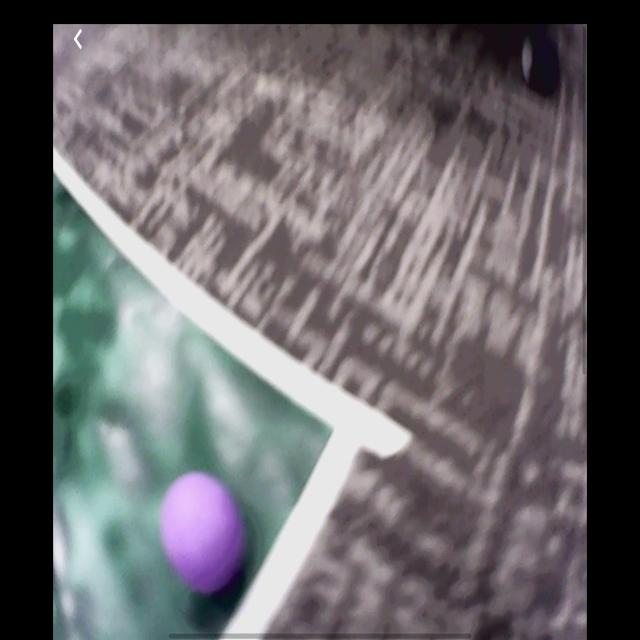ball: (159, 470, 248, 597)
